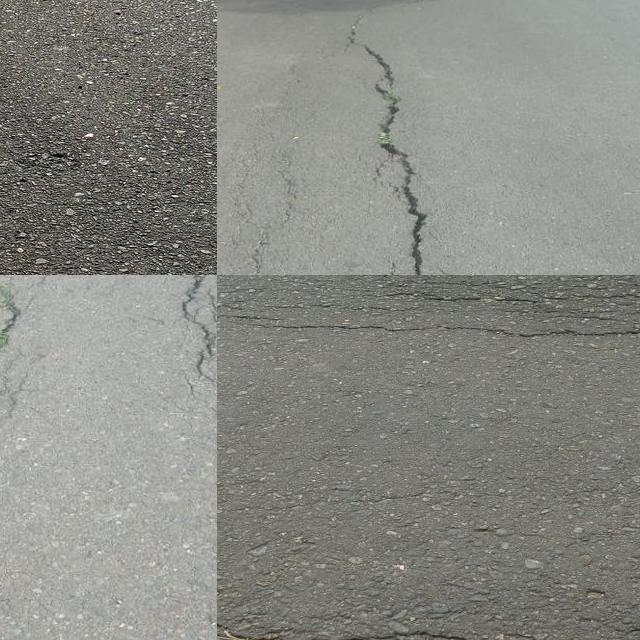Melintang: (217, 298, 640, 355), (217, 605, 640, 640)
Memanjang: (353, 22, 437, 275), (152, 275, 215, 369)
